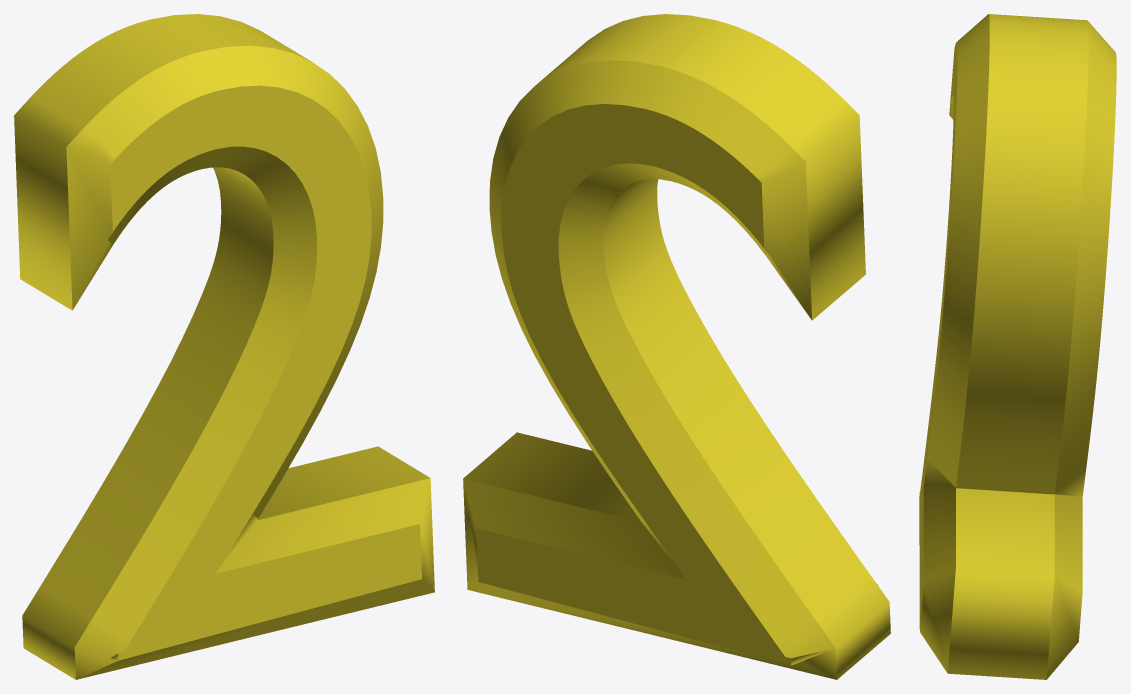
Rendered from DOS.fbx.
3 renders of one model, left to right at view 1: azimuth 30°, elevation 25°; view 2: azimuth 150°, elevation 25°; view 3: azimuth 270°, elevation 25°, orthographic. The views are drawn at different scales.
Visible parts, largest first — view 1: Text; view 2: Text; view 3: Text.
Boxes of the visible parts, x1,y1,x2,y2 form: Text: (14,14,434,679); Text: (463,14,890,679); Text: (919,14,1116,679).
Bounding box in the file's own units: 48.2 × 74.77 × 24.27.
